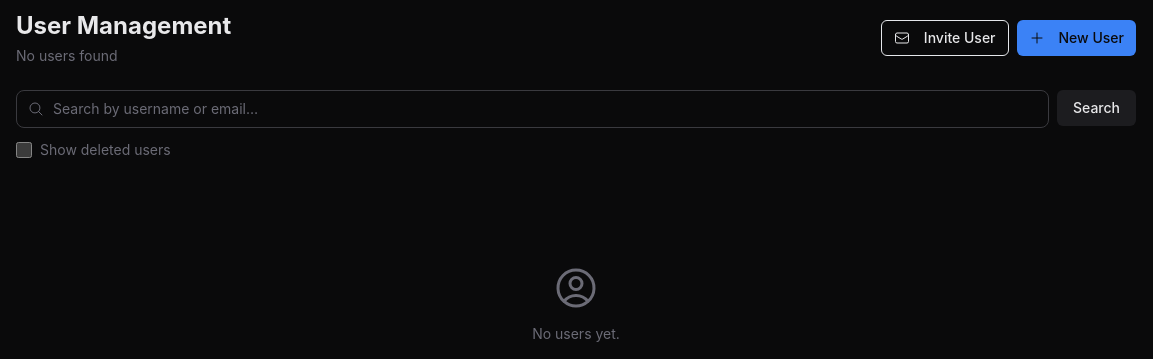
Test: AdminPage — loading/empty/populated › shows a search-specific empty message when a search yields no results
In the field with placeholder "Search by username or email…": coordinates (532, 109) [16,90,1049,128], type "nobody"
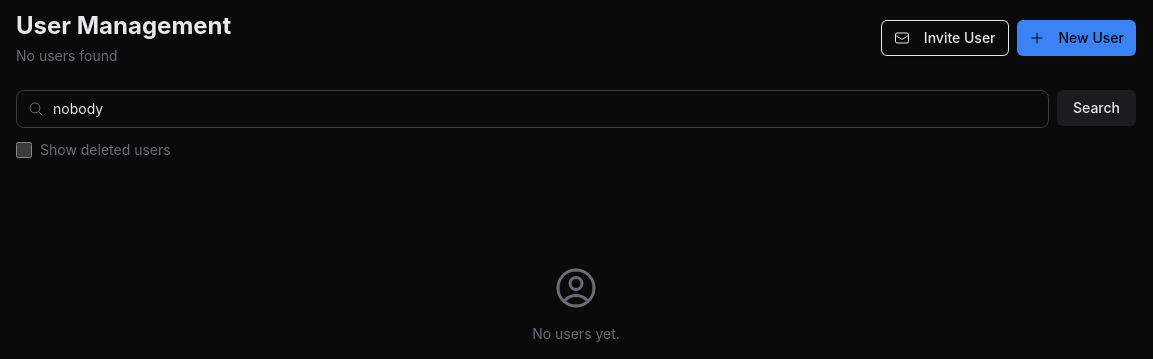
Click the button "Search": coordinates (1096, 108) [1057,90,1136,126]
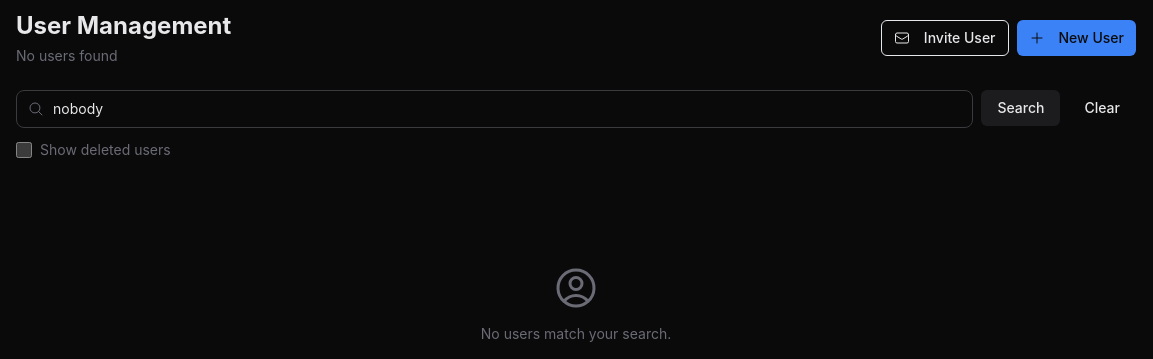
Expected: the text "No users match your search." is shown, [481,325,671,342]
